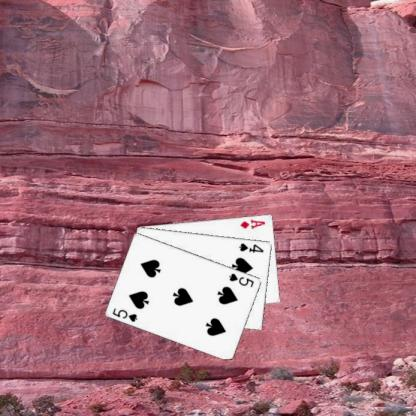4S: (237, 240, 265, 254)
5S: (226, 270, 256, 288), (110, 305, 138, 323)
AD: (238, 216, 267, 230)
